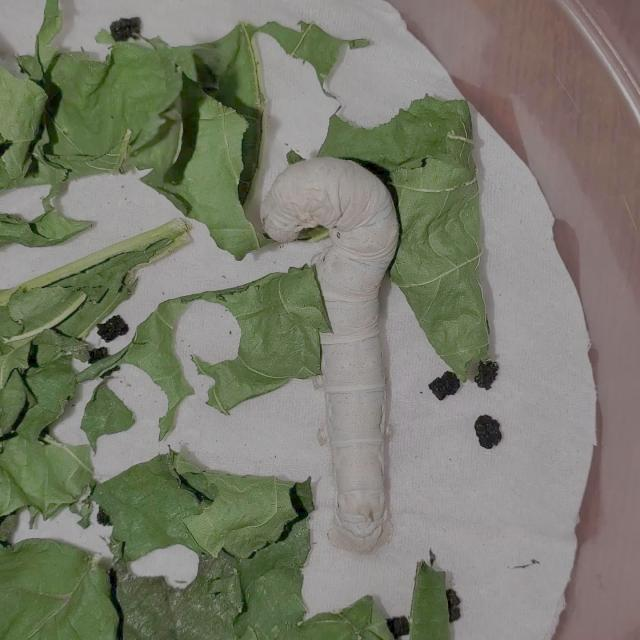Healthy: (222, 79, 453, 578)
